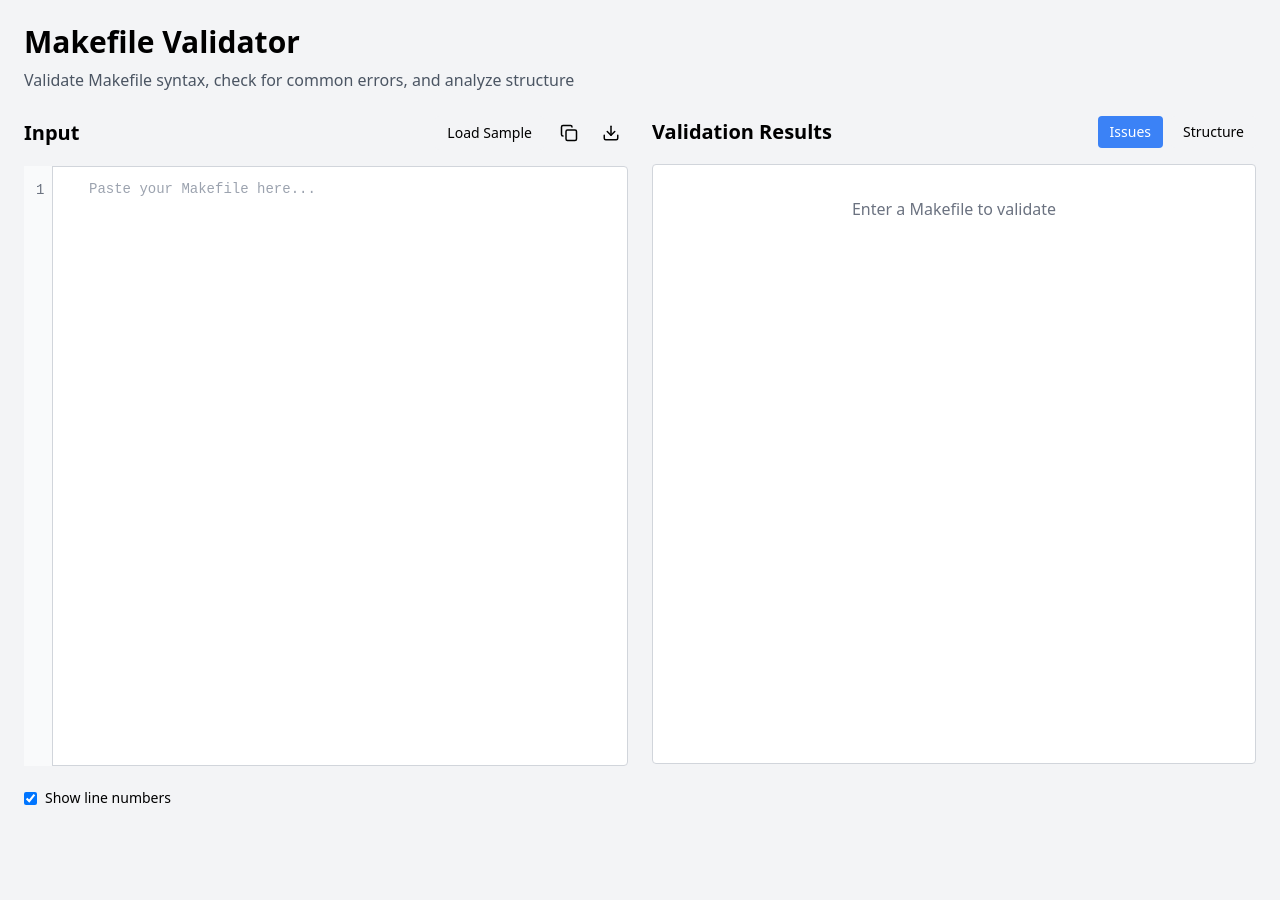
MakefileValidator › Validation Logic › detects spaces instead of tabs in recipes
Step 1. Type "all: main.o     gcc -o program main.o" into the text box with placeholder "Paste your Makefile here..." → (326, 466), box [24,166,628,766]
Wait 300 ms
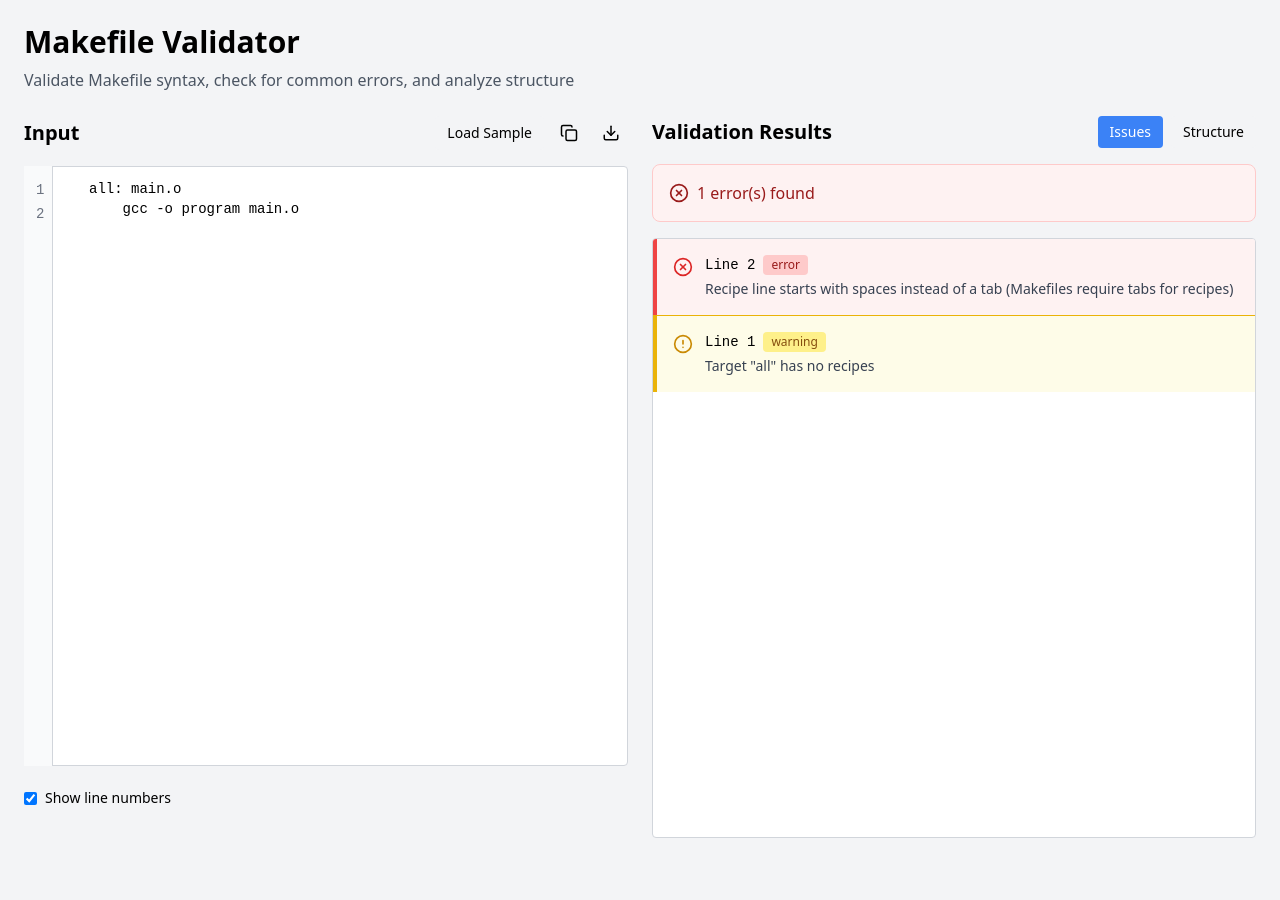
Expected: the text "Recipe line starts with spaces instead of a tab" is shown, [705,279,1233,298]
